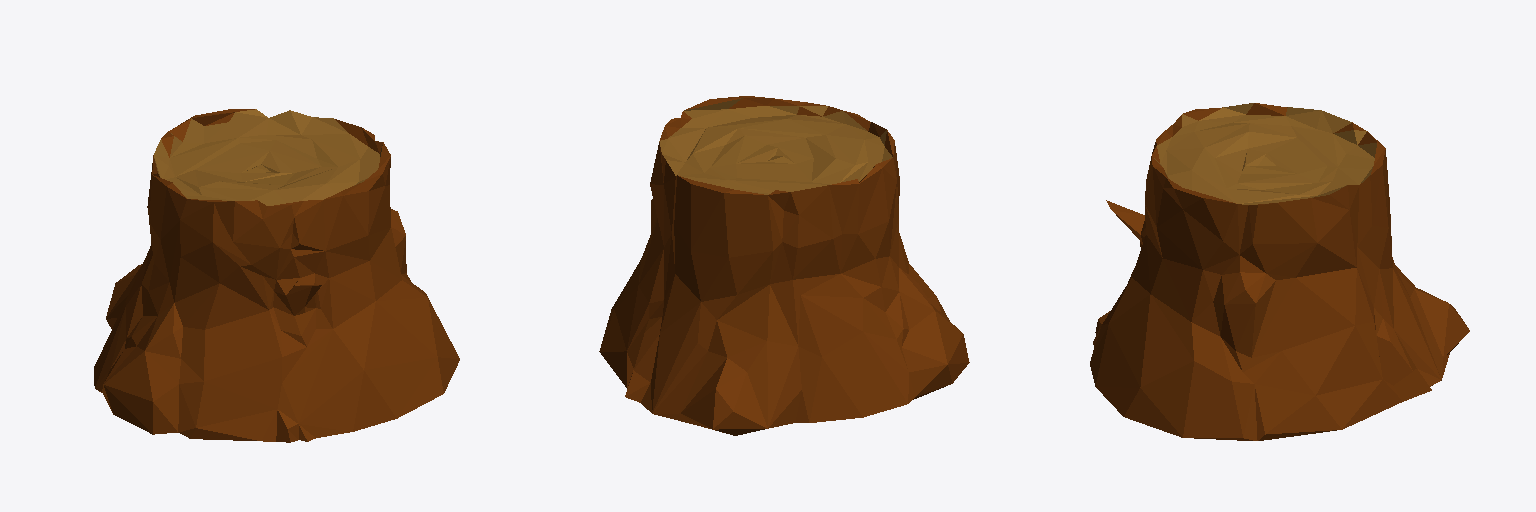
The model's file is tree_stump.obj.
The picture shows the model from 3 angles: view 1: azimuth 30°, elevation 25°; view 2: azimuth 150°, elevation 25°; view 3: azimuth 270°, elevation 25°; orthographic projection.
Visible parts, largest first — view 1: Cylinder; view 2: Cylinder; view 3: Cylinder.
Boxes of the visible parts, x1=… form: Cylinder: x1=94, y1=109, x2=459, y2=442; Cylinder: x1=599, y1=96, x2=969, y2=435; Cylinder: x1=1090, y1=103, x2=1469, y2=440.
Size of the model in its own units: 4.49 by 2.78 by 4.45.